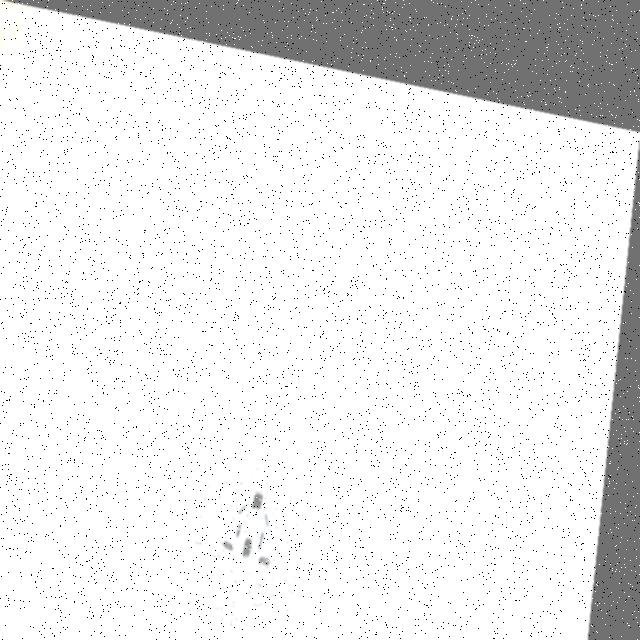adapter: (198, 446, 316, 627)
